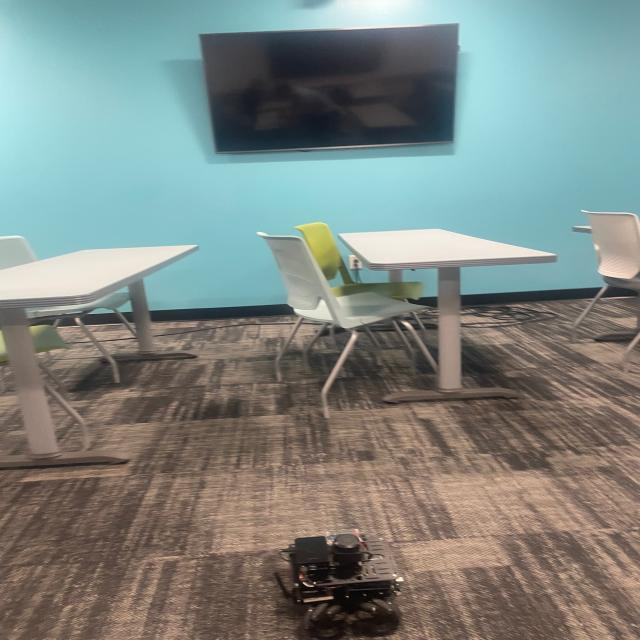ArduinoCar3: (273, 532, 403, 636)
